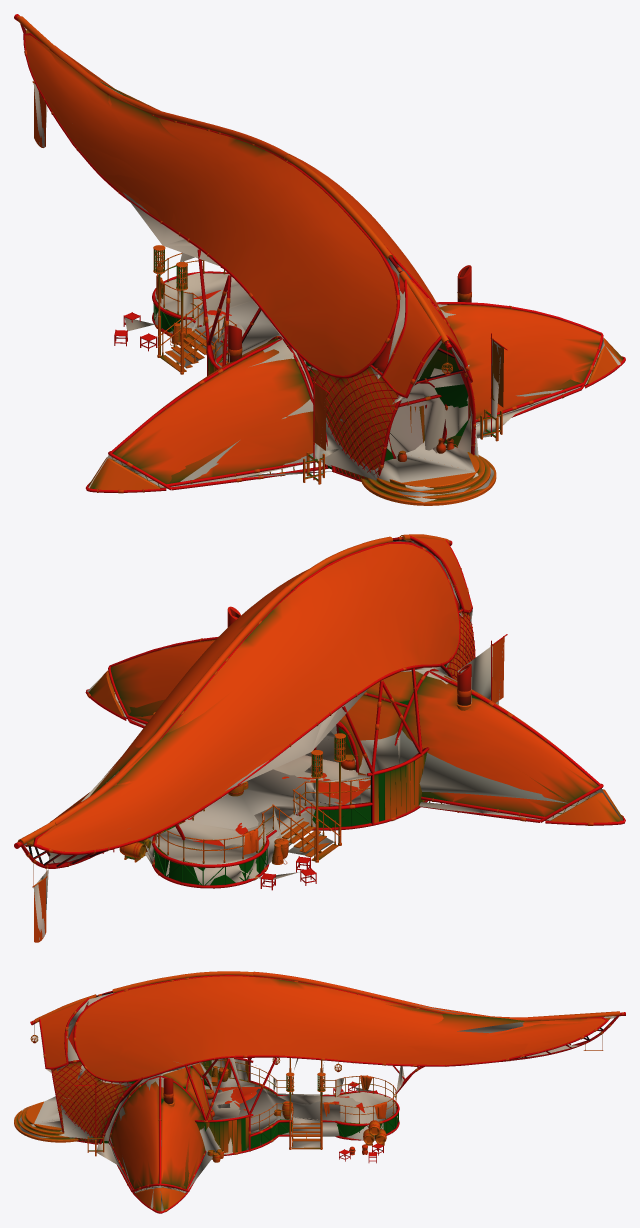
The model's file is KB3D_GAE_BldgMD_E.glb.
The picture shows the model from 3 angles, top to bottom: view 1: azimuth 30°, elevation 25°; view 2: azimuth 150°, elevation 25°; view 3: azimuth 270°, elevation 25°; orthographic projection. The views are drawn at different scales.
Visible parts, largest first — view 1: L0, L2, L1; view 2: L0, L2, L1; view 3: L0, L2, L1.
Boxes of the visible parts, box(x1,y1,x2,y2) form: L0: box(14, 14, 625, 505); L2: box(24, 27, 620, 502); L1: box(14, 15, 595, 491); L0: box(14, 534, 625, 942); L2: box(21, 540, 622, 940); L1: box(14, 536, 622, 941); L0: box(14, 971, 625, 1213); L2: box(19, 993, 620, 1211); L1: box(19, 985, 625, 1213).
Bounding box in the file's own units: 27.33 × 10.81 × 39.16.
